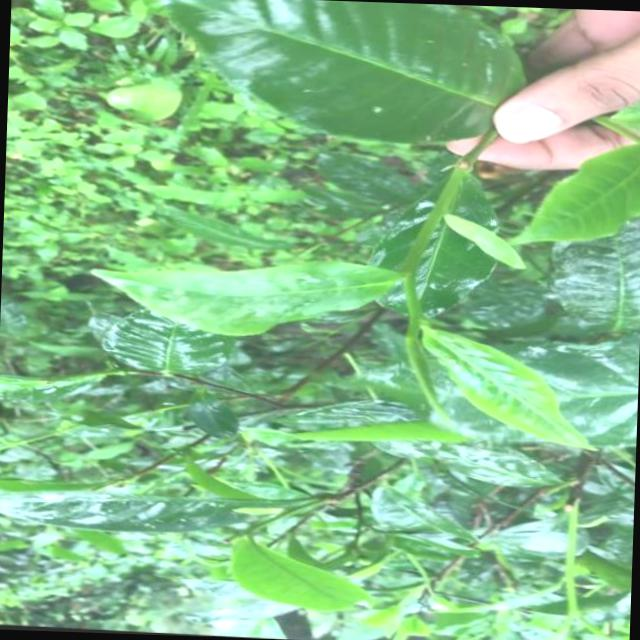Stem: (403, 259, 416, 273)
